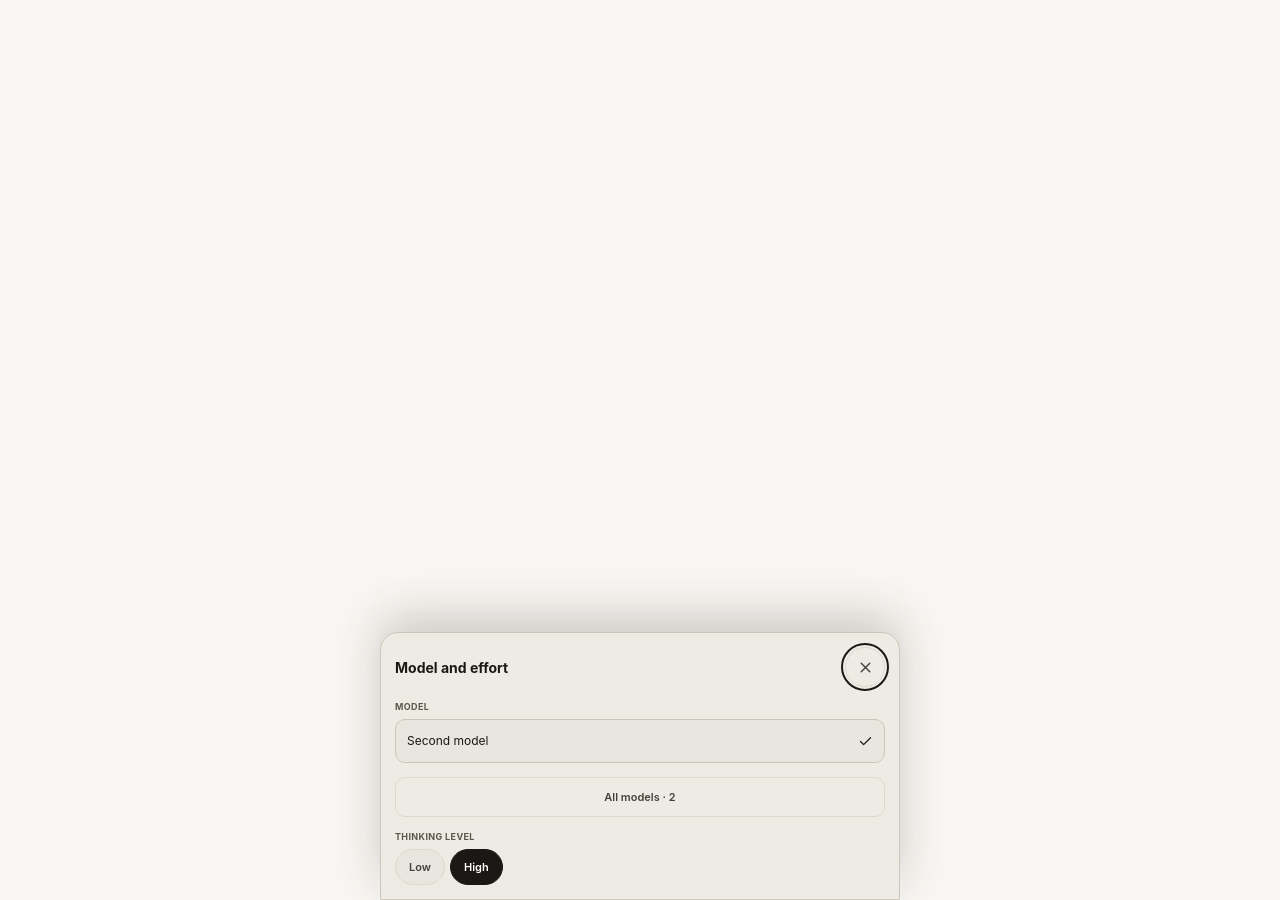
Test: ModelSheet › marks the current model and thinking level from the catalog
Expected: the radio button labelled "Second model" is checked, [395,719,885,763]
Expected: the radio button labelled "High" is checked, [450,849,503,885]
Click the button "All models · 2" at [640, 797], box [395,777,885,817]
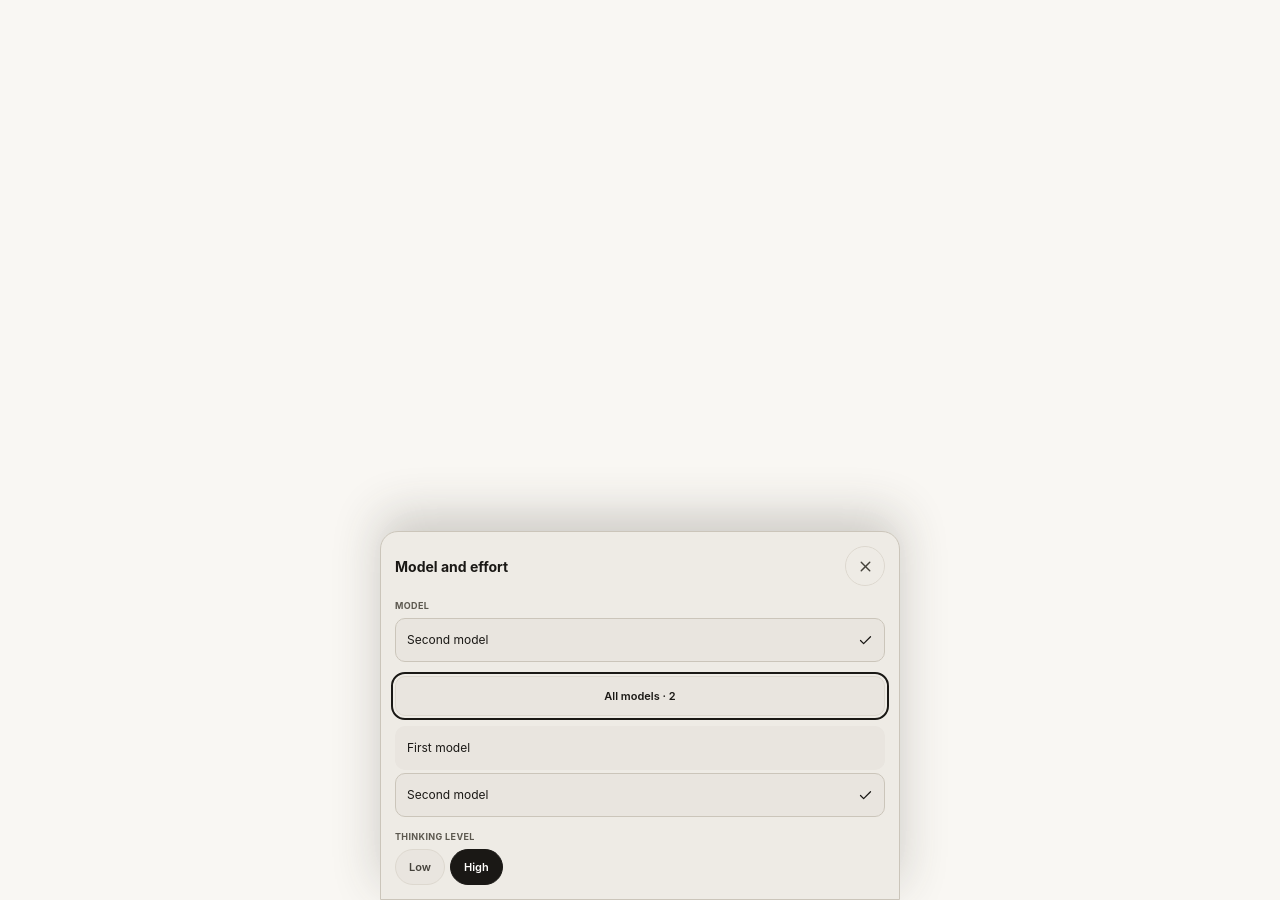
Expected: the radio button labelled "First model" is not checked, [395,726,885,770]
